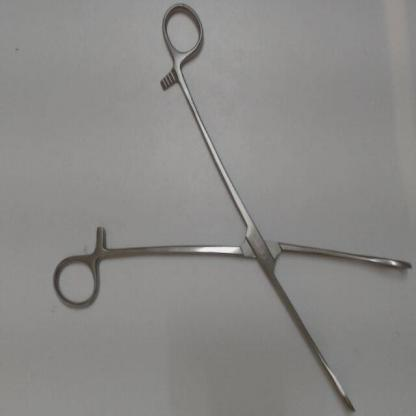Sponge Forceps: (47, 1, 415, 414)
